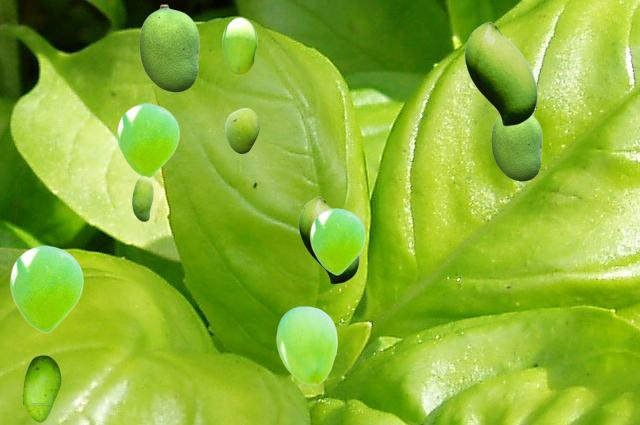green_mango: (464, 21, 536, 125), (10, 245, 82, 332), (298, 196, 358, 283), (139, 4, 198, 91), (276, 306, 336, 384), (117, 103, 178, 177), (310, 208, 364, 274), (491, 115, 541, 180), (22, 355, 60, 421), (222, 17, 256, 74), (225, 108, 258, 152), (132, 176, 152, 220)
